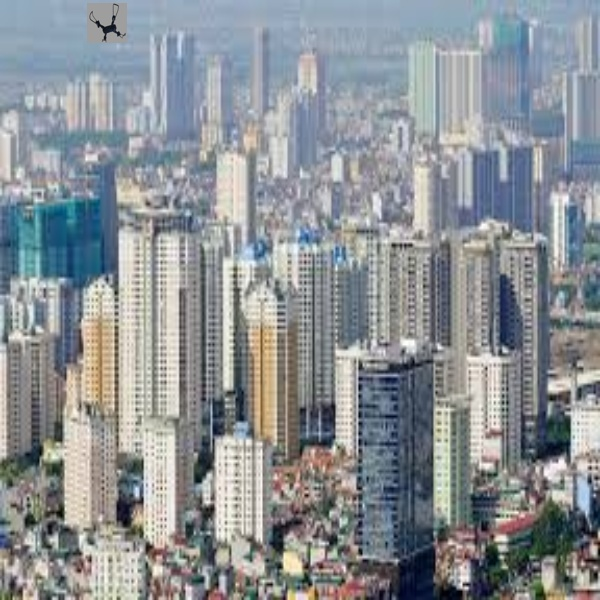drone: (90, 5, 129, 43)
